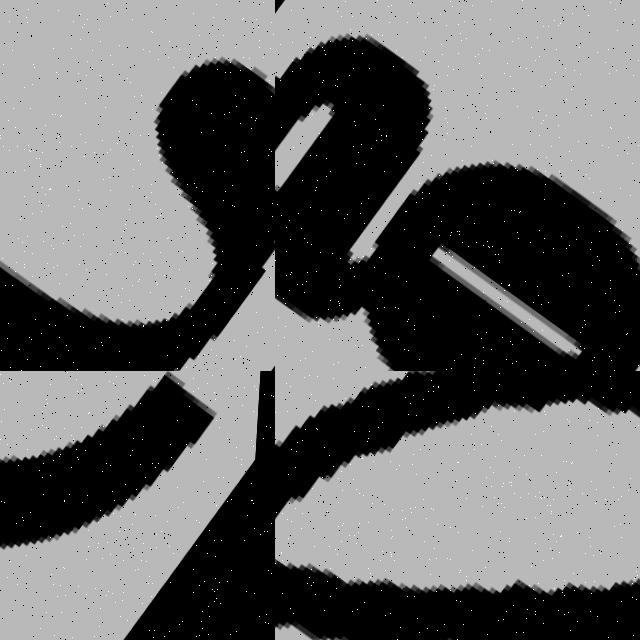6: (0, 371, 275, 640)
C: (0, 32, 275, 371)
G: (275, 0, 640, 371)
O: (275, 371, 640, 640)
